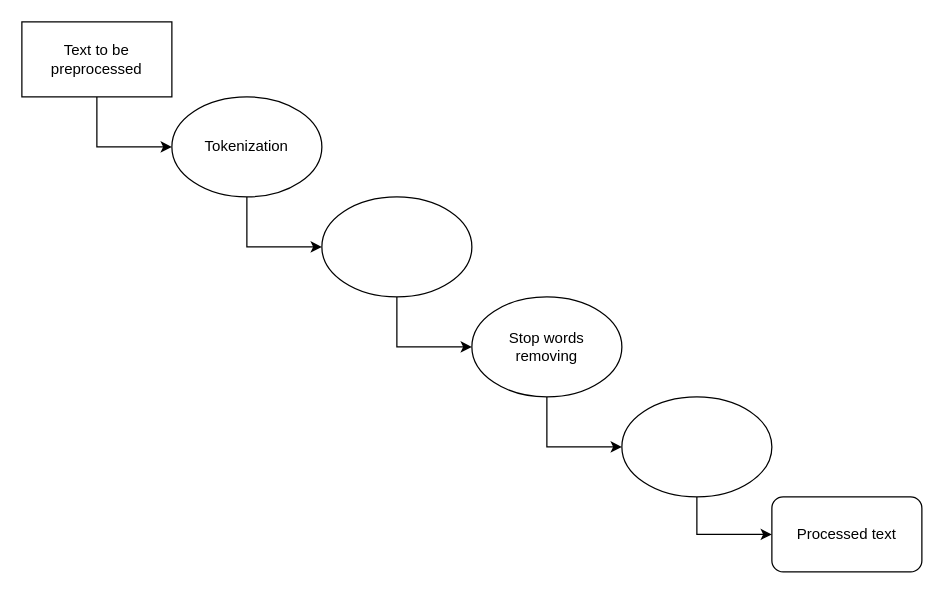
Image size: 944x594. Some labels were removed from this diagram. The centre of each missing label's shape, as x and y in pixels:
"Lowercase transformation" belongs at point (396, 246).
"Stemming/ Lemmatization" belongs at point (696, 446).
